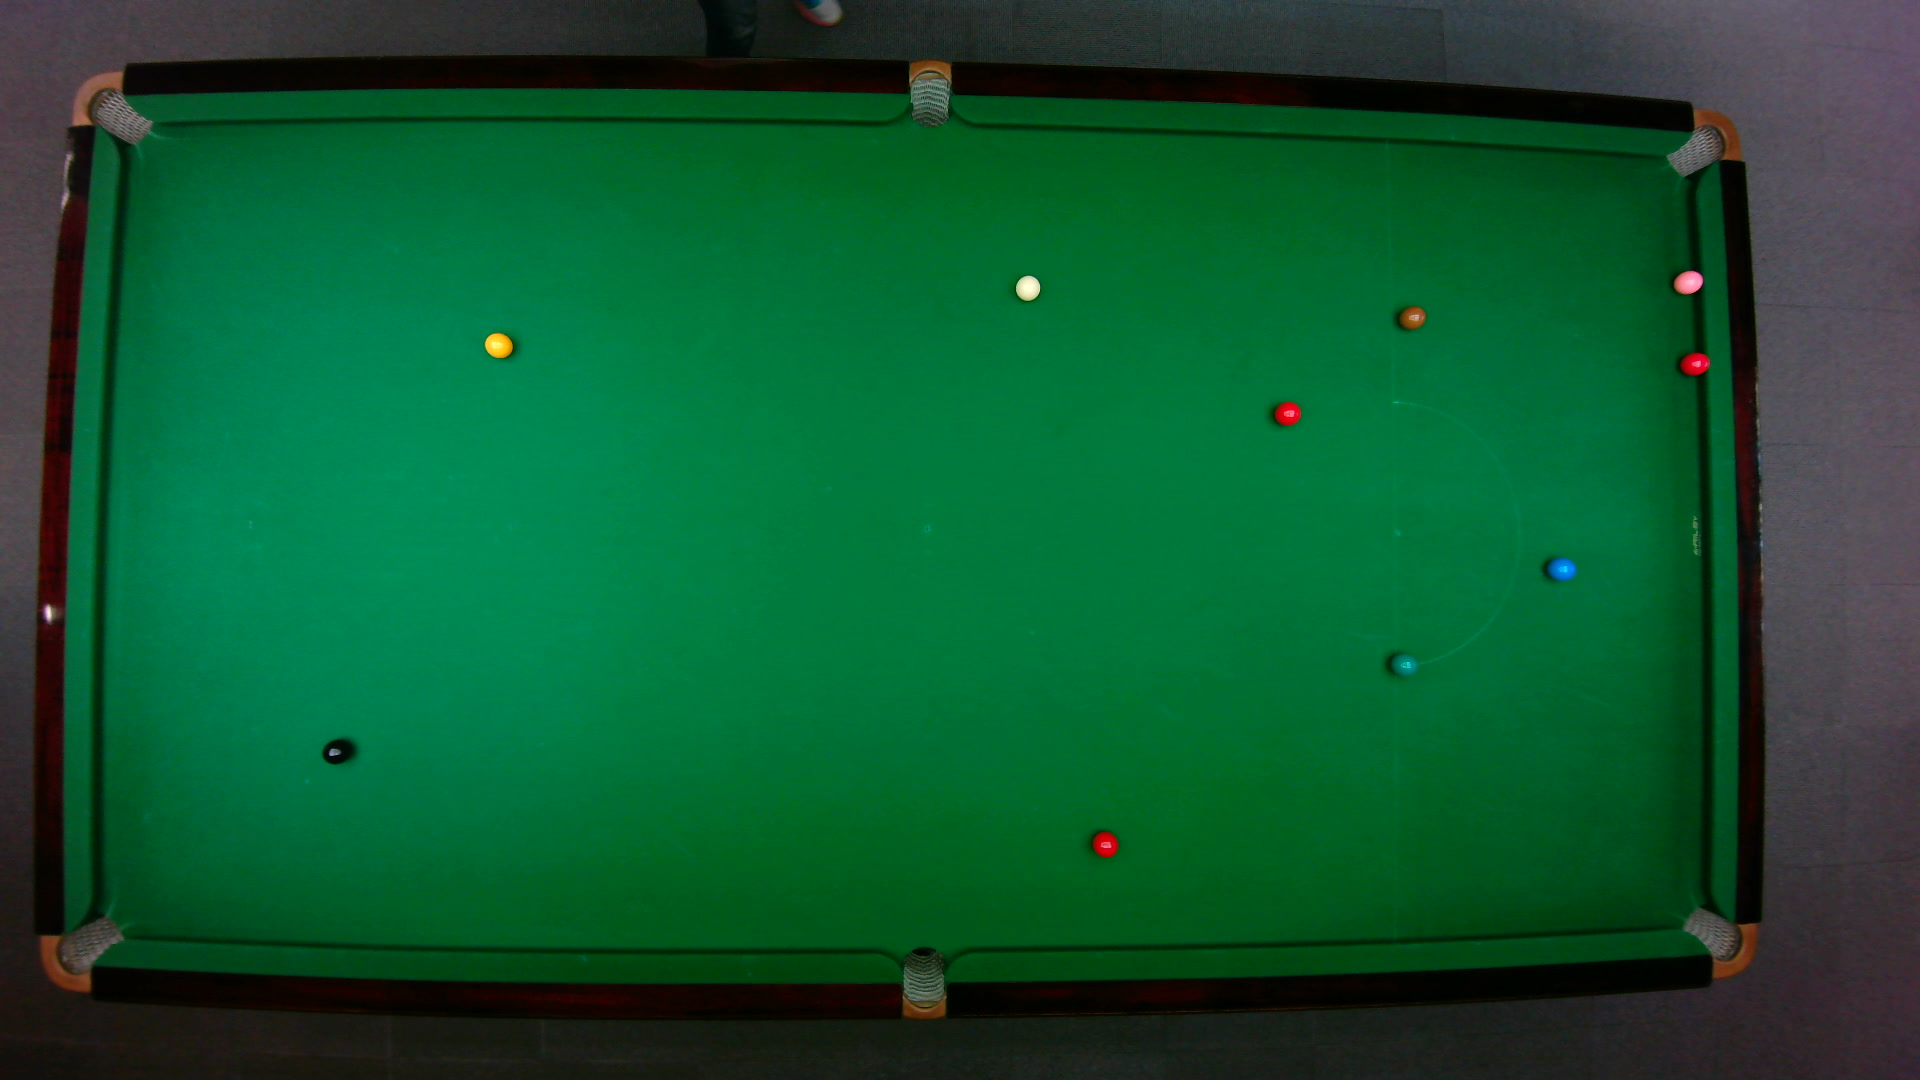bag: (38, 913, 125, 993), (69, 69, 152, 145), (1679, 905, 1756, 978), (1663, 107, 1741, 177), (901, 944, 944, 1021), (909, 57, 949, 128)
black: (320, 736, 352, 765)
blue: (1545, 556, 1577, 582)
brown: (1396, 305, 1427, 328)
green: (1389, 650, 1418, 676)
pink: (1671, 266, 1704, 295)
red: (1089, 828, 1120, 858), (1677, 349, 1712, 376), (1273, 400, 1302, 426)
white: (1011, 273, 1040, 301)
yellow: (483, 330, 513, 359)
zone: (1389, 398, 1519, 667)
